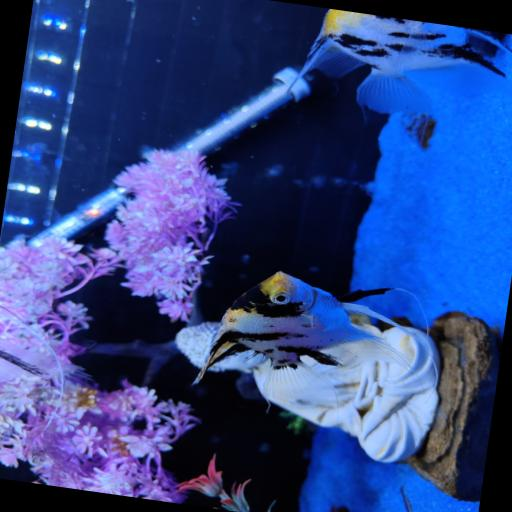Fish: (196, 272, 414, 400), (301, 9, 511, 113)
